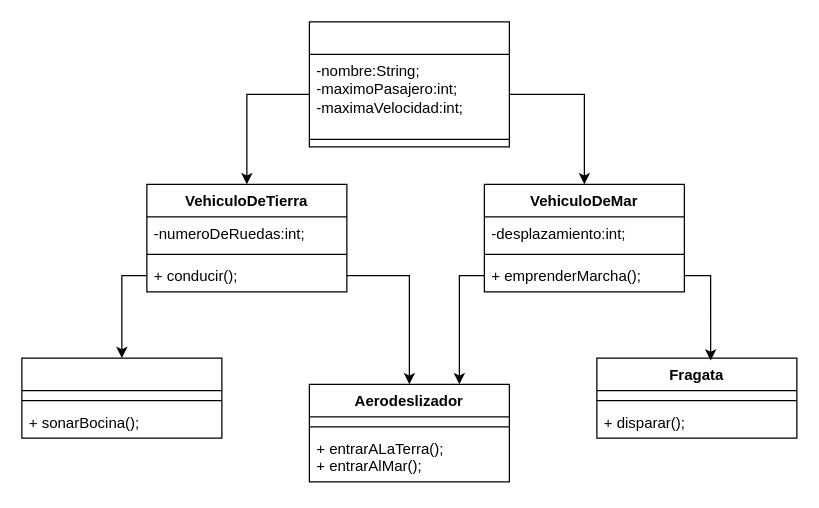
This 819x508 diagram has some shape labels left out. Each missing label, with the box of its shape:
Jeep: (21, 357, 222, 438)
Vehiculo: (308, 21, 509, 147)
